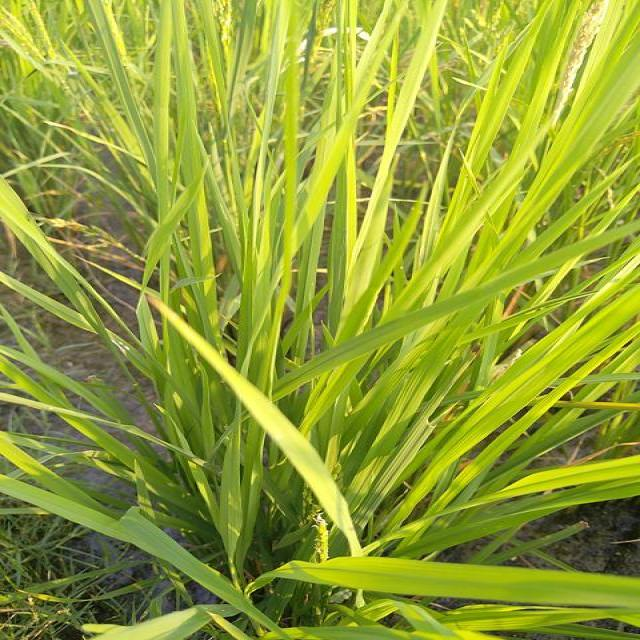Rice: (457, 2, 640, 287), (90, 0, 230, 361), (432, 287, 640, 458), (302, 196, 430, 439), (288, 554, 636, 640), (367, 457, 640, 553), (234, 14, 304, 376), (109, 508, 283, 638), (306, 8, 424, 196), (0, 440, 114, 532), (158, 361, 204, 507), (203, 394, 247, 505)
